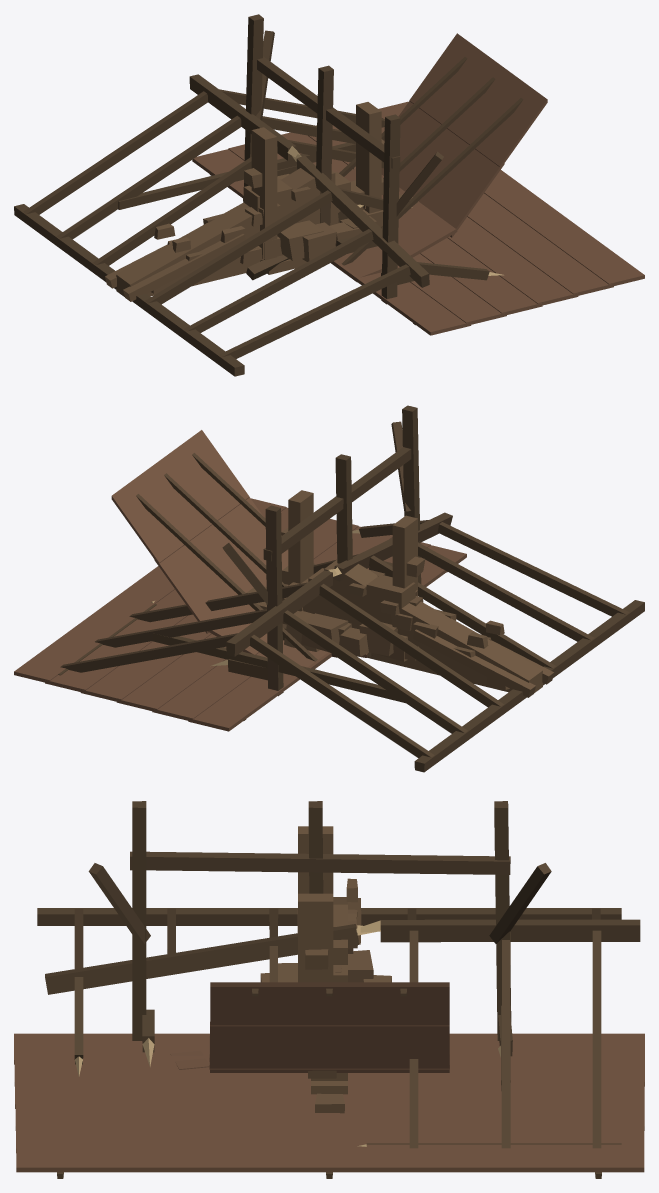
Rendered from SM_Farm_Ruins_c44f430b.glb.
The picture shows the model from 3 angles, top to bottom: view 1: azimuth 30°, elevation 25°; view 2: azimuth 150°, elevation 25°; view 3: azimuth 270°, elevation 25°; orthographic projection. The views are drawn at different scales.
Parts seen in each view (by area): view 1: SM_Farm_Truss, SM_Farm_RoofPan_Intact, SM_Farm_RoofPan_Fallen, SM_Farm_InteriorFrame, SM_Farm_GableBreak, SM_Farm_Jamb_Door, SM_Farm_Rubble_Wall, SM_Farm_Jamb_Breach, SM_Farm_WallStub_East; view 2: SM_Farm_Truss, SM_Farm_RoofPan_Intact, SM_Farm_RoofPan_Fallen, SM_Farm_GableBreak, SM_Farm_InteriorFrame, SM_Farm_Jamb_Door, SM_Farm_Rubble_Wall, SM_Farm_WallStub_East, SM_Farm_JoistStubs; view 3: SM_Farm_RoofPan_Intact, SM_Farm_Truss, SM_Farm_RoofPan_Fallen, SM_Farm_InteriorFrame, SM_Farm_Jamb_Door, SM_Farm_GableBreak, SM_Farm_Rubble_Wall, SM_Farm_JoistStubs.
Boxes of the visible parts, left/top/right/bottom form: SM_Farm_Truss: left=14, top=74, right=503, bottom=376; SM_Farm_RoofPan_Intact: left=192, top=101, right=644, bottom=335; SM_Farm_RoofPan_Fallen: left=331, top=33, right=547, bottom=281; SM_Farm_InteriorFrame: left=244, top=14, right=443, bottom=304; SM_Farm_GableBreak: left=105, top=164, right=417, bottom=301; SM_Farm_Jamb_Door: left=244, top=102, right=384, bottom=274; SM_Farm_Rubble_Wall: left=246, top=210, right=383, bottom=280; SM_Farm_Jamb_Breach: left=251, top=155, right=374, bottom=260; SM_Farm_WallStub_East: left=243, top=178, right=339, bottom=262; SM_Farm_Truss: left=58, top=512, right=644, bottom=772; SM_Farm_RoofPan_Intact: left=14, top=498, right=466, bottom=731; SM_Farm_RoofPan_Fallen: left=111, top=430, right=331, bottom=669; SM_Farm_GableBreak: left=246, top=559, right=554, bottom=697; SM_Farm_InteriorFrame: left=222, top=405, right=421, bottom=696; SM_Farm_Jamb_Door: left=281, top=490, right=425, bottom=606; SM_Farm_Rubble_Wall: left=282, top=607, right=407, bottom=661; SM_Farm_WallStub_East: left=302, top=574, right=415, bottom=665; SM_Farm_JoistStubs: left=210, top=561, right=392, bottom=680; SM_Farm_RoofPan_Intact: left=14, top=1033, right=644, bottom=1178; SM_Farm_Truss: left=37, top=908, right=640, bottom=1148; SM_Farm_RoofPan_Fallen: left=170, top=982, right=449, bottom=1072; SM_Farm_InteriorFrame: left=88, top=801, right=551, bottom=1040; SM_Farm_Jamb_Door: left=298, top=826, right=333, bottom=982; SM_Farm_GableBreak: left=297, top=878, right=361, bottom=1113; SM_Farm_Rubble_Wall: left=260, top=950, right=391, bottom=982; SM_Farm_JoistStubs: left=142, top=1009, right=512, bottom=1066.
Bounding box in the file's own units: 6.76 × 2.88 × 6.8.
